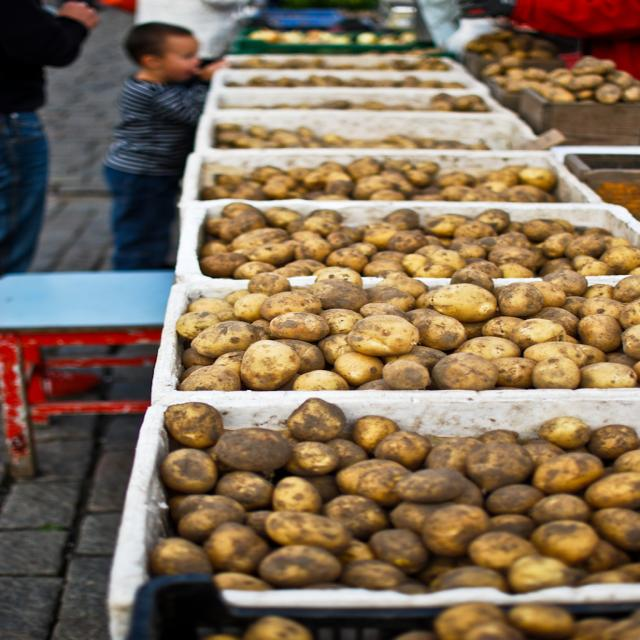Potato: (346, 313, 418, 358), (461, 436, 524, 486), (239, 220, 296, 270)
